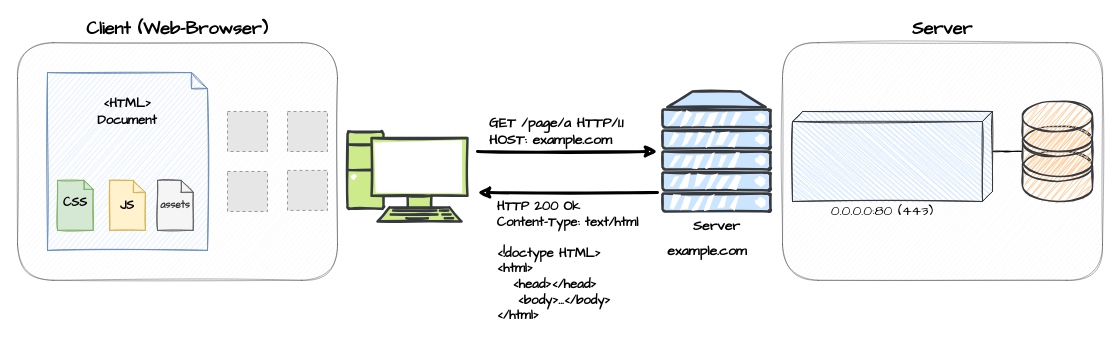
Some shapes in this 1120 by 342 pixel diagram are drawn without their labels. Grey dashed boxes stand in for pictures. Here are the shapes that lost their labels. From the top down, the centre of each, then its label:
At point (892, 156): "Web Application".
At point (1057, 151): "DB".
At point (407, 176): "Client".
